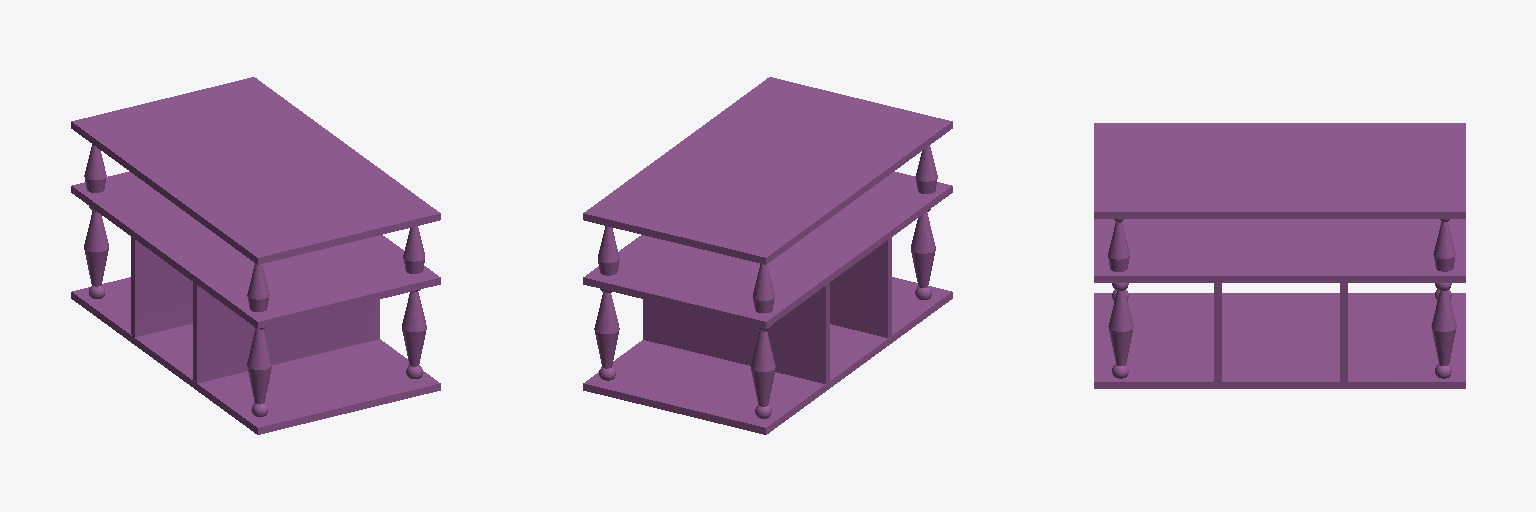
3 renders of one model, left to right at view 1: azimuth 30°, elevation 25°; view 2: azimuth 150°, elevation 25°; view 3: azimuth 270°, elevation 25°, orthographic.
Visible parts, largest first — view 1: Plano, Cilindro; view 2: Plano, Cilindro; view 3: Plano, Cilindro.
Part boxes in pixels (left/top/right/bottom): Plano: left=71, top=77, right=440, bottom=434; Cilindro: left=84, top=206, right=426, bottom=416; Plano: left=583, top=77, right=952, bottom=434; Cilindro: left=594, top=209, right=935, bottom=418; Plano: left=1094, top=123, right=1465, bottom=388; Cilindro: left=1108, top=283, right=1456, bottom=378.
Size of the model in its own units: 2.71 by 2.51 by 4.79.
2 materials, 1 textured.